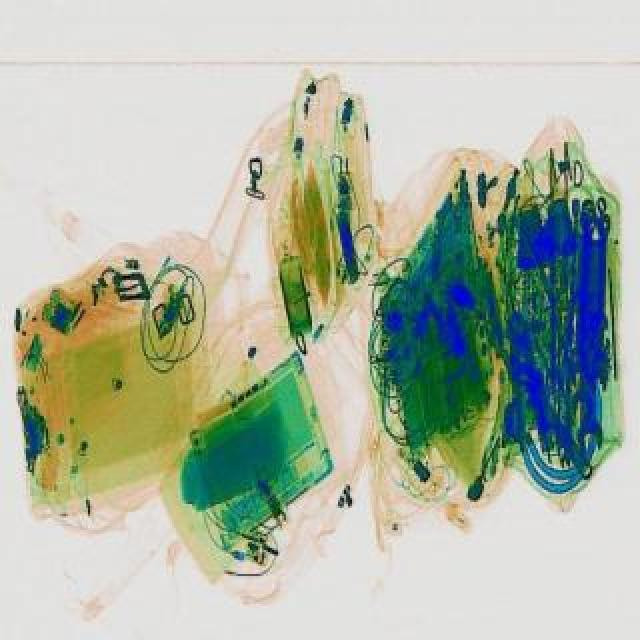scissors: (572, 370, 604, 450), (570, 330, 598, 414)
